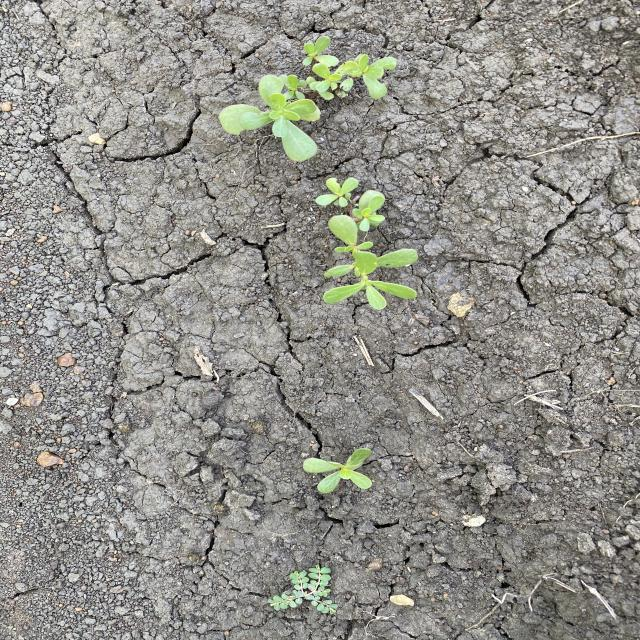Purslane: (216, 34, 402, 164), (315, 175, 422, 312), (299, 444, 377, 498)
SpottedSpurge: (266, 561, 342, 617)
